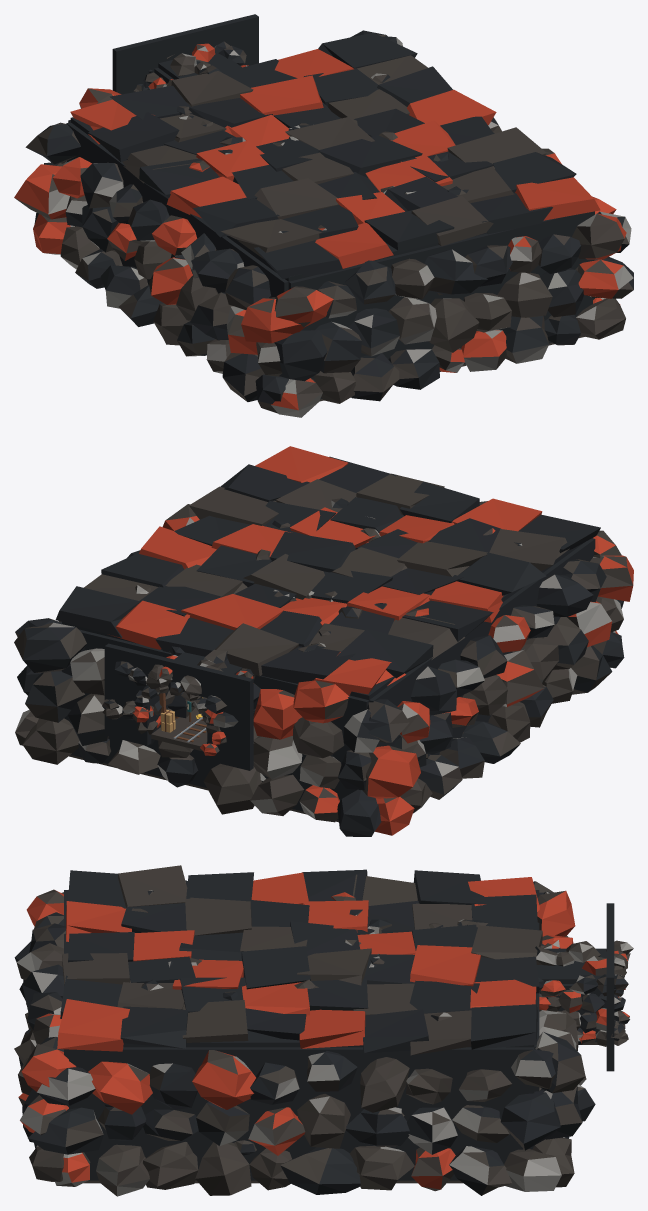
File: Cave_Source_Entry.fbx
3 views of the same model, one above another, from view 1: azimuth 30°, elevation 25°; view 2: azimuth 150°, elevation 25°; view 3: azimuth 270°, elevation 25° (orthographic). The views are drawn at different scales.
Parts seen in each view (by area): view 1: Decor, Wall3, Wall6, Plate1, Plate2, Plate3, Ceiling2, Ceiling1; view 2: Decor, Wall6, Plate1, Plate2, Wall1, Wall2, Floor1, Plate3, Ceiling2, Wall8; view 3: Decor, Wall4, Ceiling2, Plate2, Ceiling1.
Boxes of the visible parts, <box> form: Decor: <box>14,30,633,417</box>; Wall3: <box>288,212,592,399</box>; Wall6: <box>66,122,288,297</box>; Plate1: <box>112,38,158,94</box>; Plate2: <box>214,14,258,65</box>; Plate3: <box>155,24,216,63</box>; Ceiling2: <box>70,112,494,281</box>; Ceiling1: <box>158,51,241,79</box>; Decor: <box>14,446,633,836</box>; Wall6: <box>369,538,595,754</box>; Plate1: <box>207,668,253,770</box>; Plate2: <box>104,643,151,745</box>; Wall1: <box>253,675,369,819</box>; Wall2: <box>61,629,172,777</box>; Floor1: <box>151,711,207,751</box>; Plate3: <box>147,654,210,697</box>; Ceiling2: <box>62,514,584,699</box>; Wall8: <box>188,749,219,787</box>; Decor: <box>14,865,633,1196</box>; Wall4: <box>69,1047,534,1180</box>; Ceiling2: <box>123,885,534,1047</box>; Plate2: <box>606,956,614,1071</box>; Ceiling1: <box>537,948,606,983</box>.
Bounding box in the file's own units: 96.2 × 36.85 × 120.
